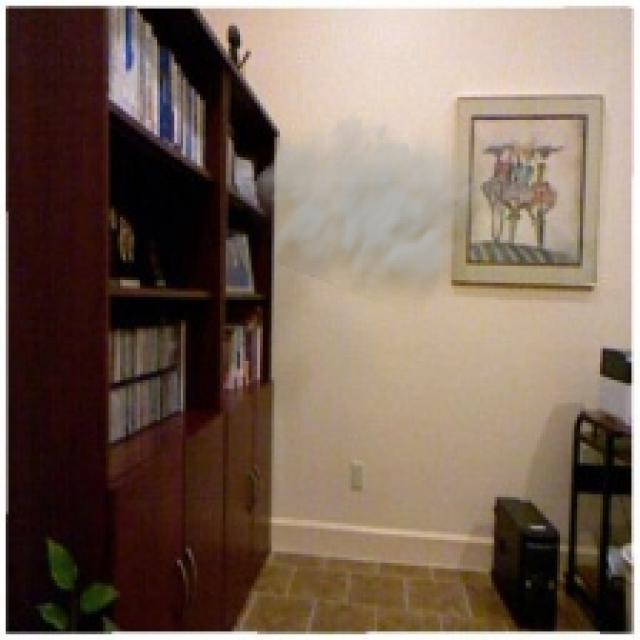Smoke: (237, 109, 497, 318)
